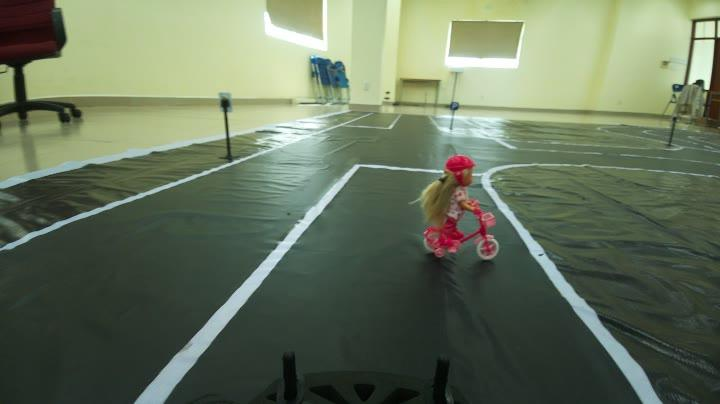pedestrian: (406, 144, 512, 266)
